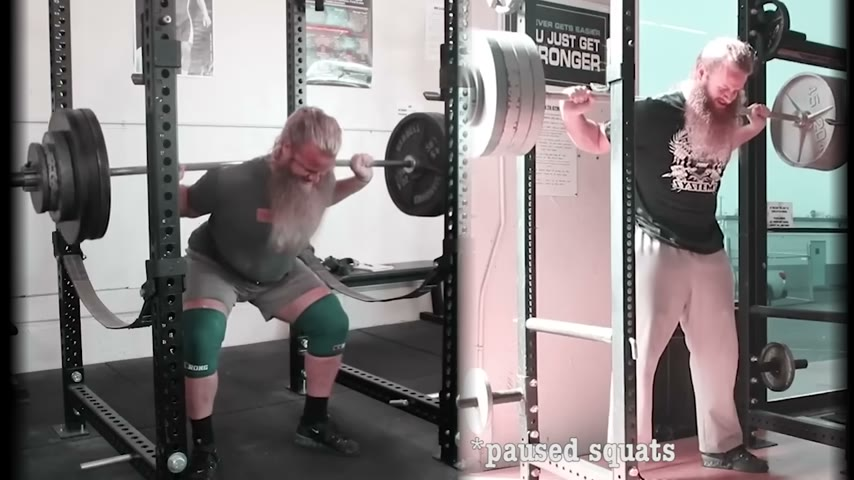barbell_plate_side: (378, 29, 455, 218)
